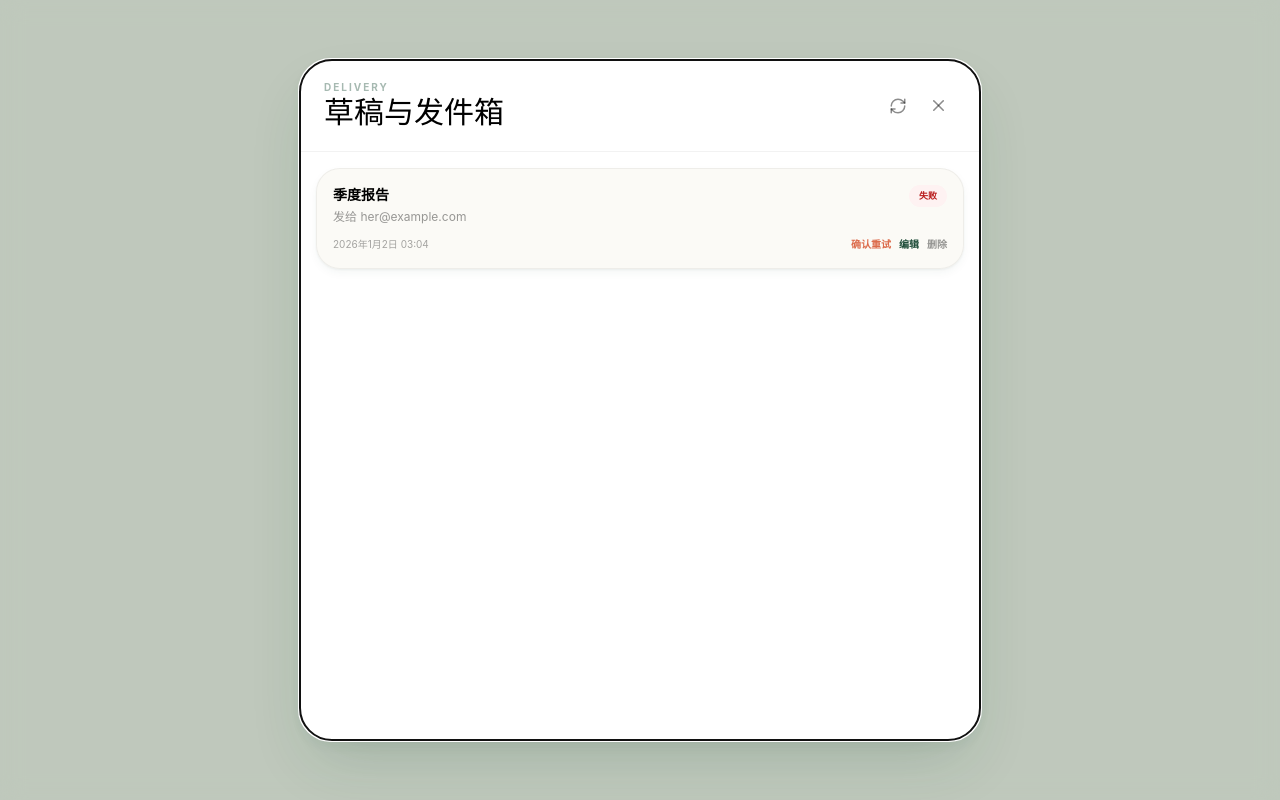
Test case: outbox dialog › deletes and reloads, leaving the empty state
The image size is (1280, 800).
Click the button "删除": (937, 244) left=927, top=237, right=947, bottom=252
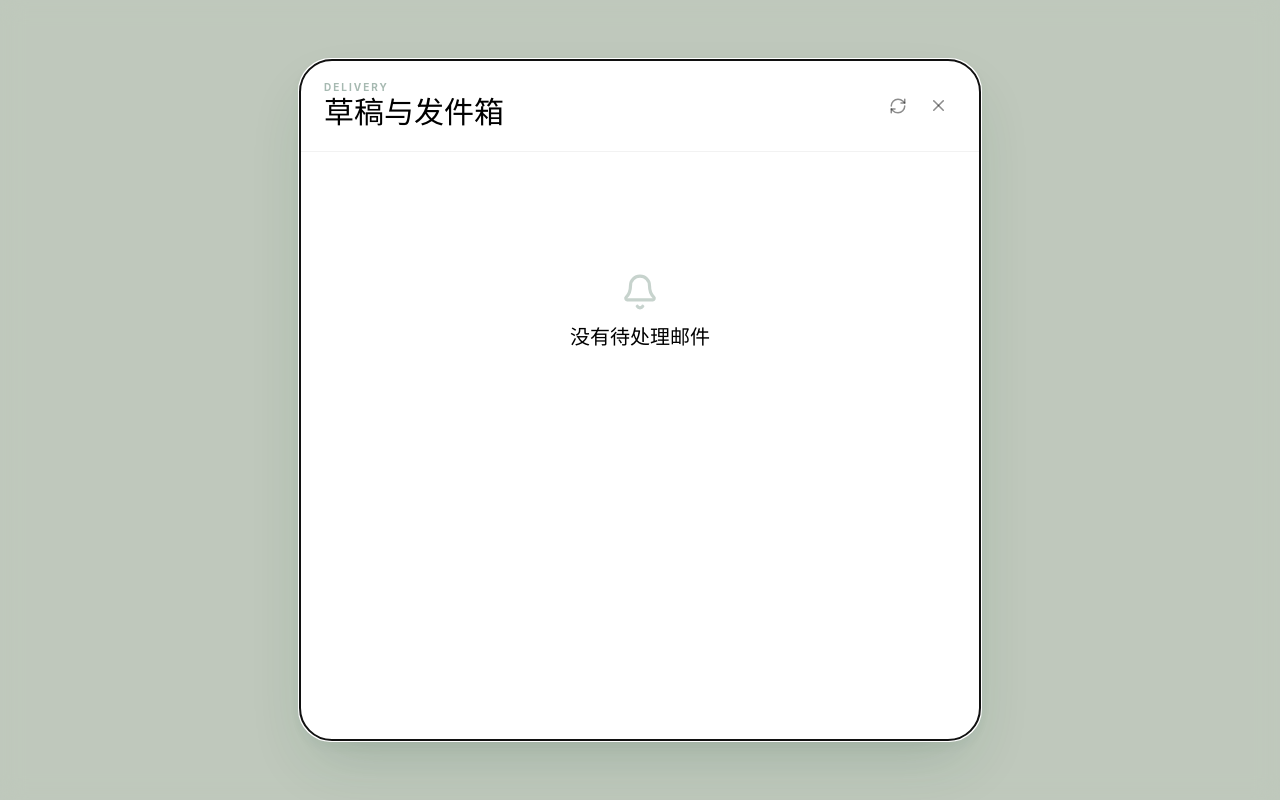
Check: the text "没有待处理邮件" is shown, box left=570, top=323, right=710, bottom=351
